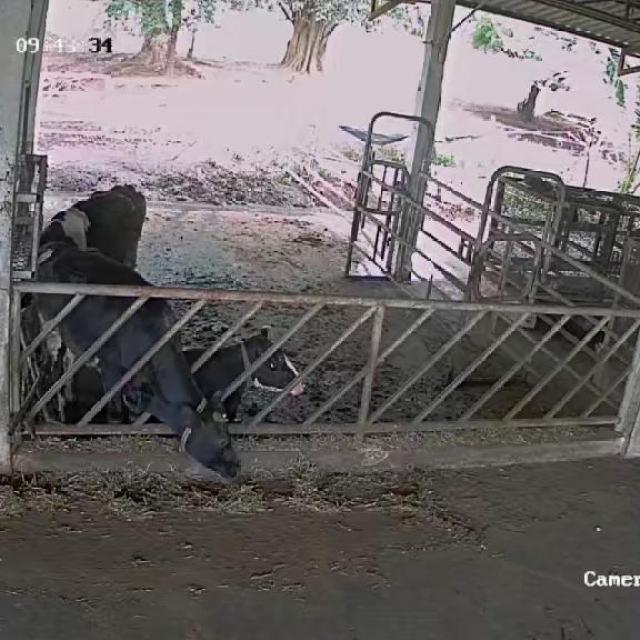feeding: (30, 241, 244, 481)
lying down: (180, 325, 308, 429)
standing: (29, 183, 152, 284)
